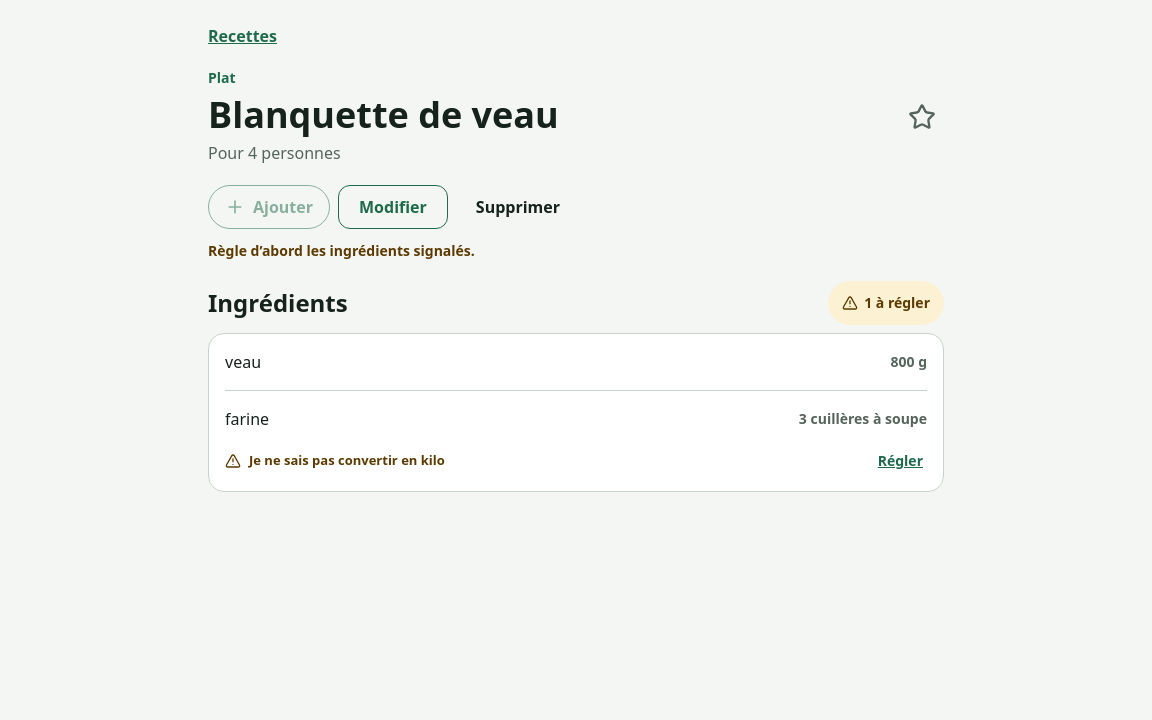
Test: RecipeDetailView : ingrédients à régler › écrit la conversion de l’ingrédient, relit la recette et fait disparaître l’avertissement
Expected: the heading "Blanquette de veau" is shown, [208,92,559,137]
Click the button "Régler" at (900, 461), box [866,439,935,483]
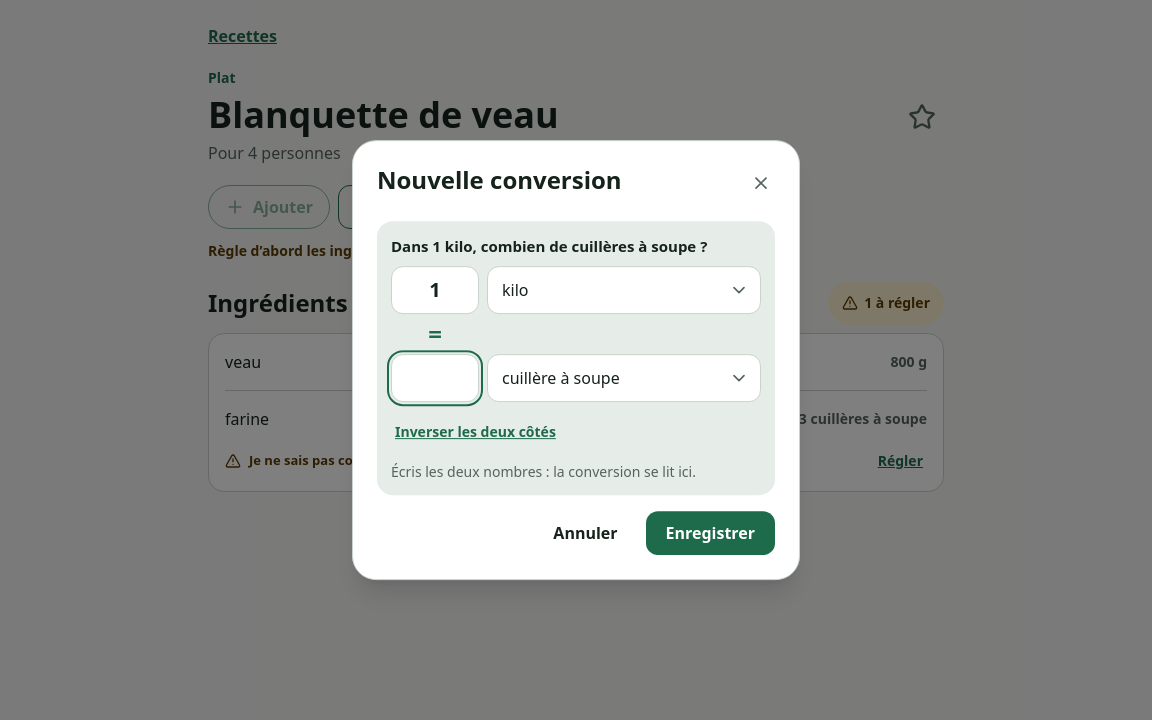
Expected: the dialog is shown, [352,140,800,580]
Type "100" into the field named "Quantité d" at (435, 378), box [391,354,479,402]
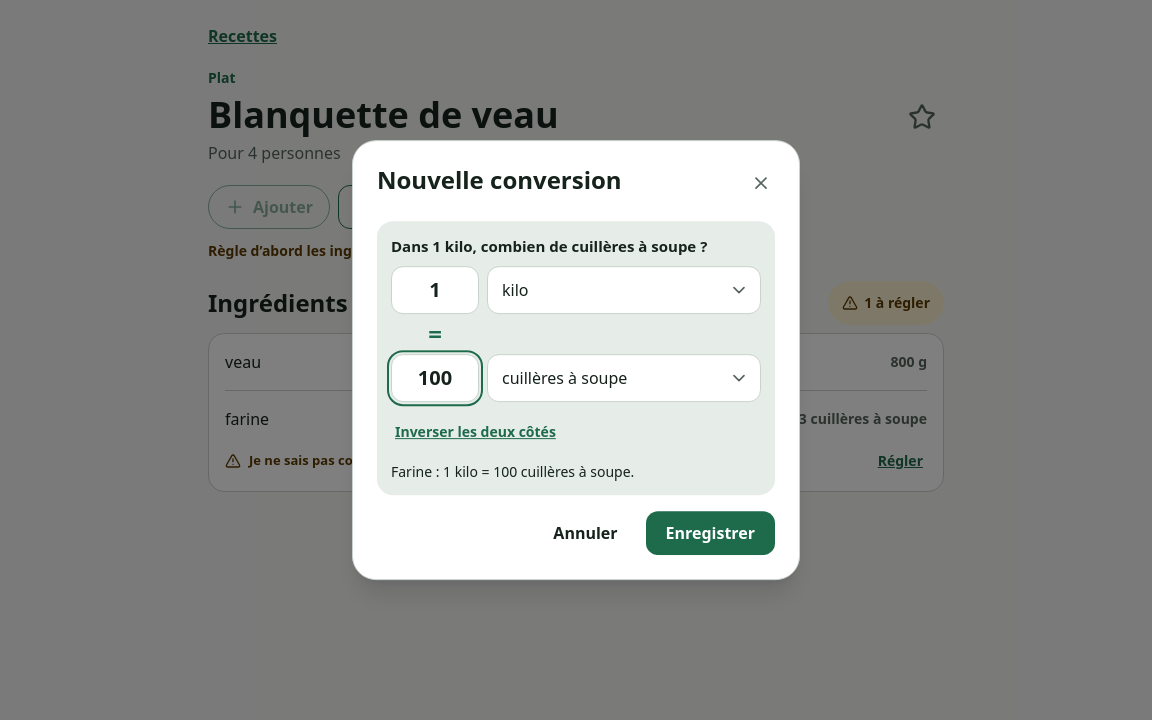
Submit the form, box [377,221,775,555]
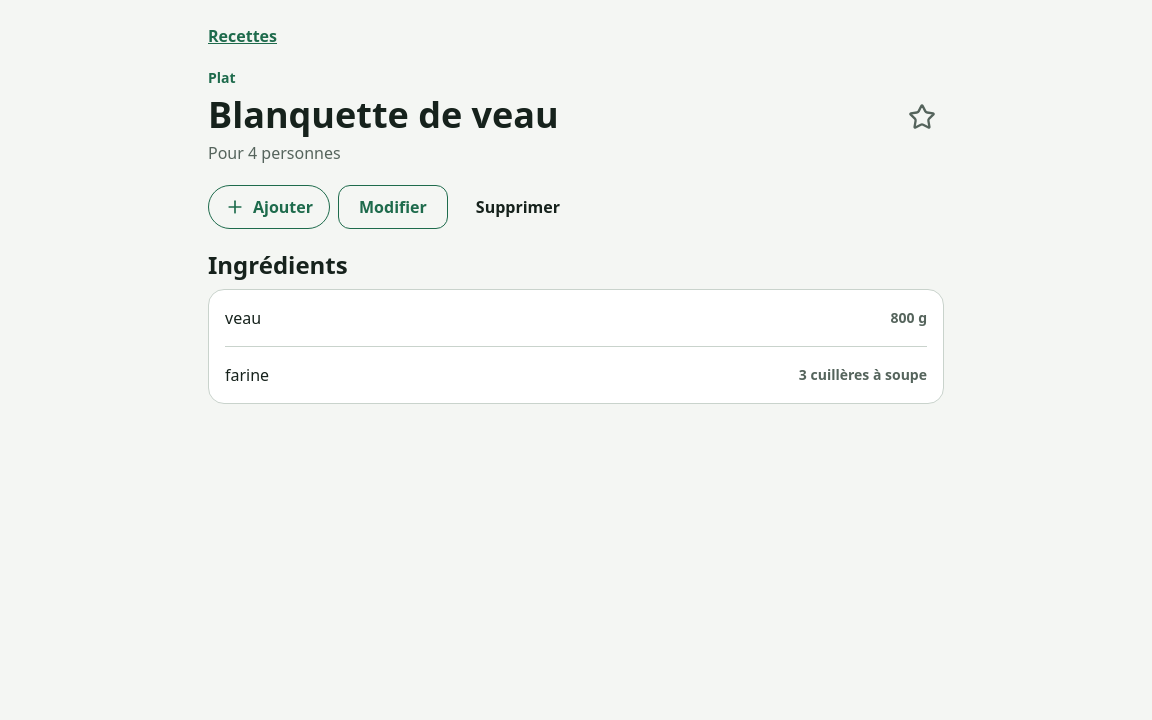
Expected: the text "Je ne sais pas" is gone
Expected: the dialog is gone
Expected: the text "à régler" is gone
